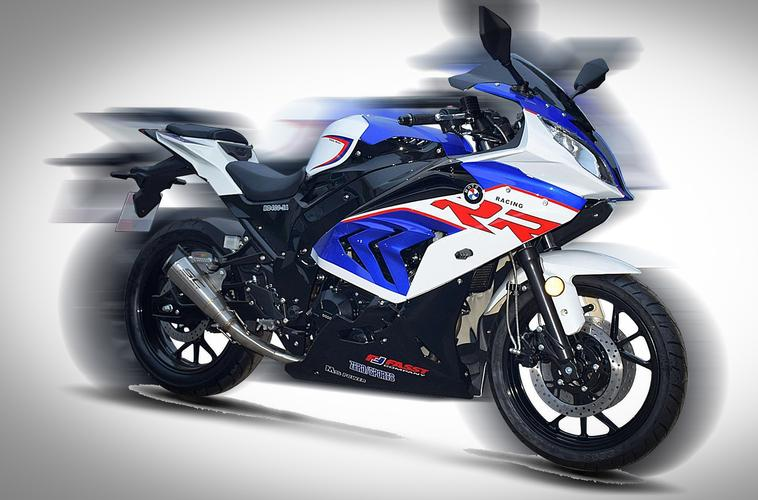摩托车: (112, 58, 690, 481)
